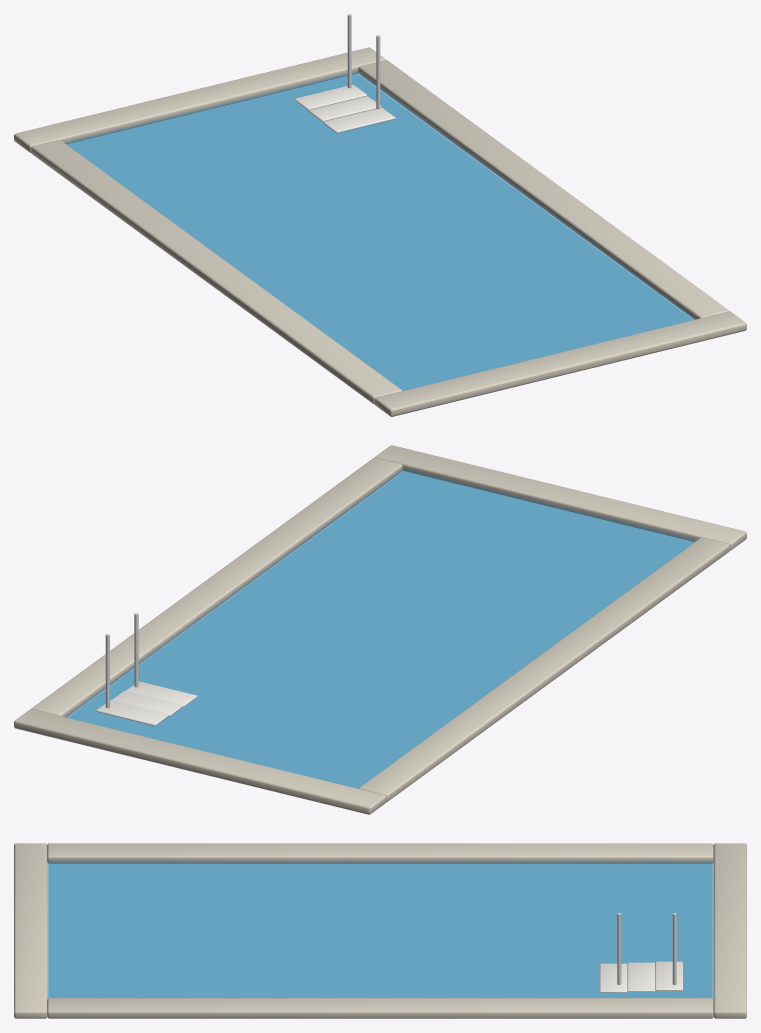
File: piscina.glb
3 renders of one model, top to bottom at view 1: azimuth 30°, elevation 25°; view 2: azimuth 150°, elevation 25°; view 3: azimuth 270°, elevation 25°, orthographic. The views are drawn at different scales.
Visible parts, largest first — view 1: p; view 2: p; view 3: p.
Boxes of the visible parts, left/top/right/bottom form: p: left=14, top=14, right=746, bottom=416; p: left=14, top=445, right=746, bottom=814; p: left=14, top=843, right=746, bottom=1018.
Bounding box in the file's own units: 3.6 × 0.78 × 6.6.
